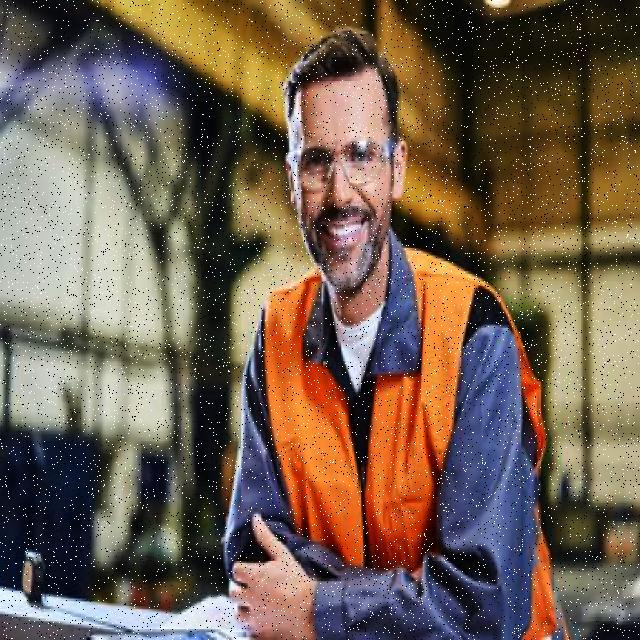Goggles: (271, 134, 413, 196)
